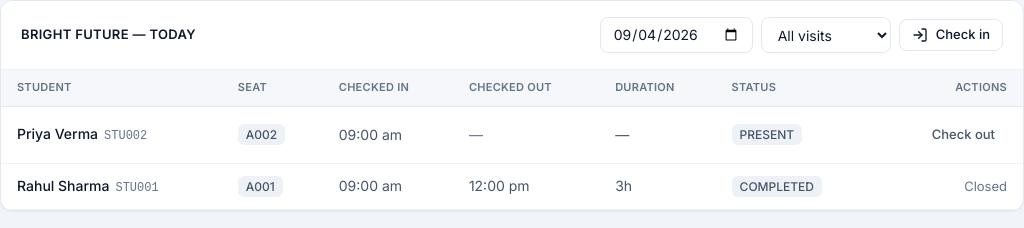
Test case: AttendanceBoard rendering › reads another day through the date parameter and hides check-in for it
expect the text "Priya Verma" is shown: met, box 17,125 -> 98,142
Type "2020-01-01" into the date field named "attendance date" at {"x": 676, "y": 35}, box 600,17 -> 753,53
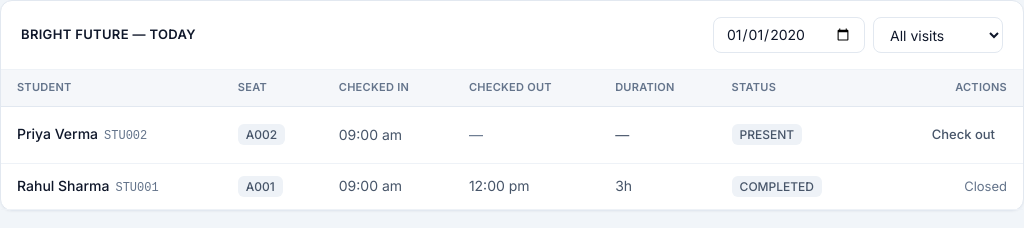
expect the button "Check in" is gone: met
